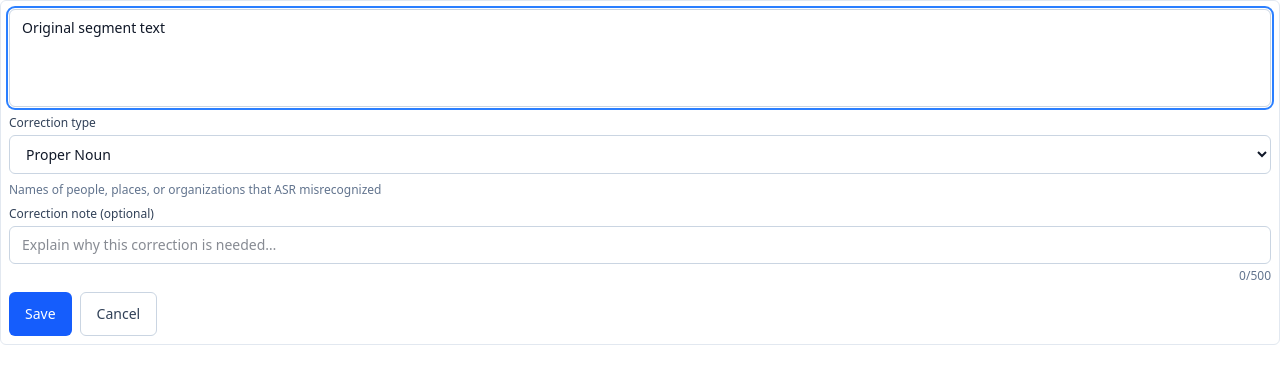
Test: SegmentEditForm › Test 7 — Identical text validation error › shows 'Correction is identical to the current text.' when text is unchanged
// Do not change the text — click Save directly
Click the button "Save": click(40, 314) [9,292,72,336]
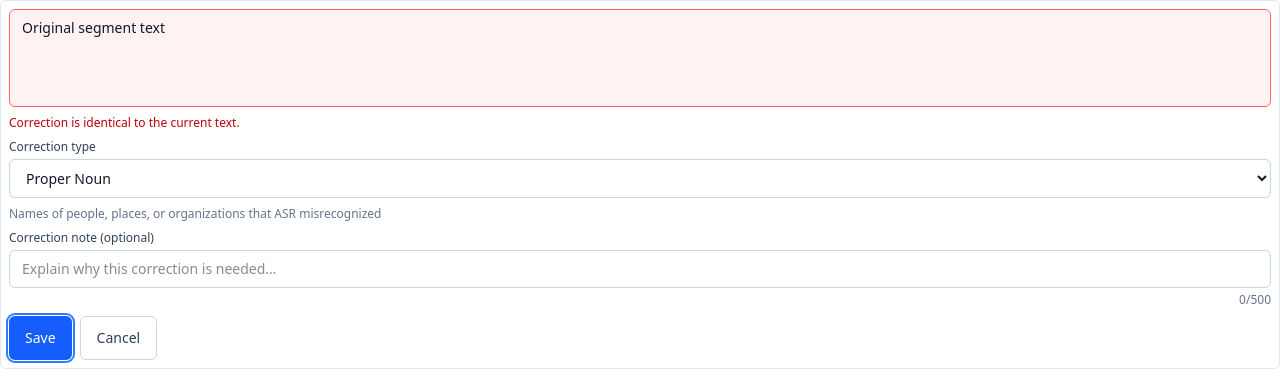
Expected: the text "Correction is identical to the current text." is shown, [9,114,240,131]
